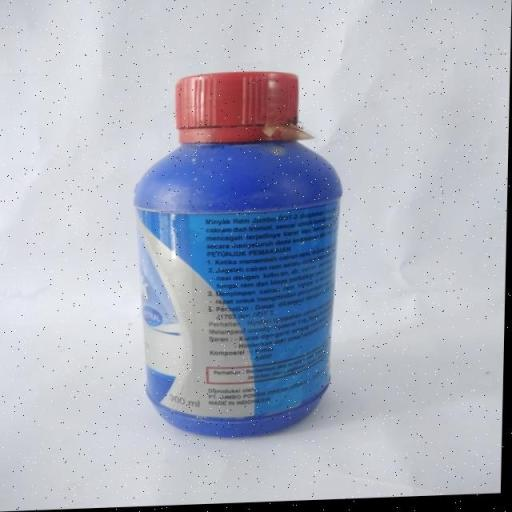plastic: (136, 60, 342, 442)
